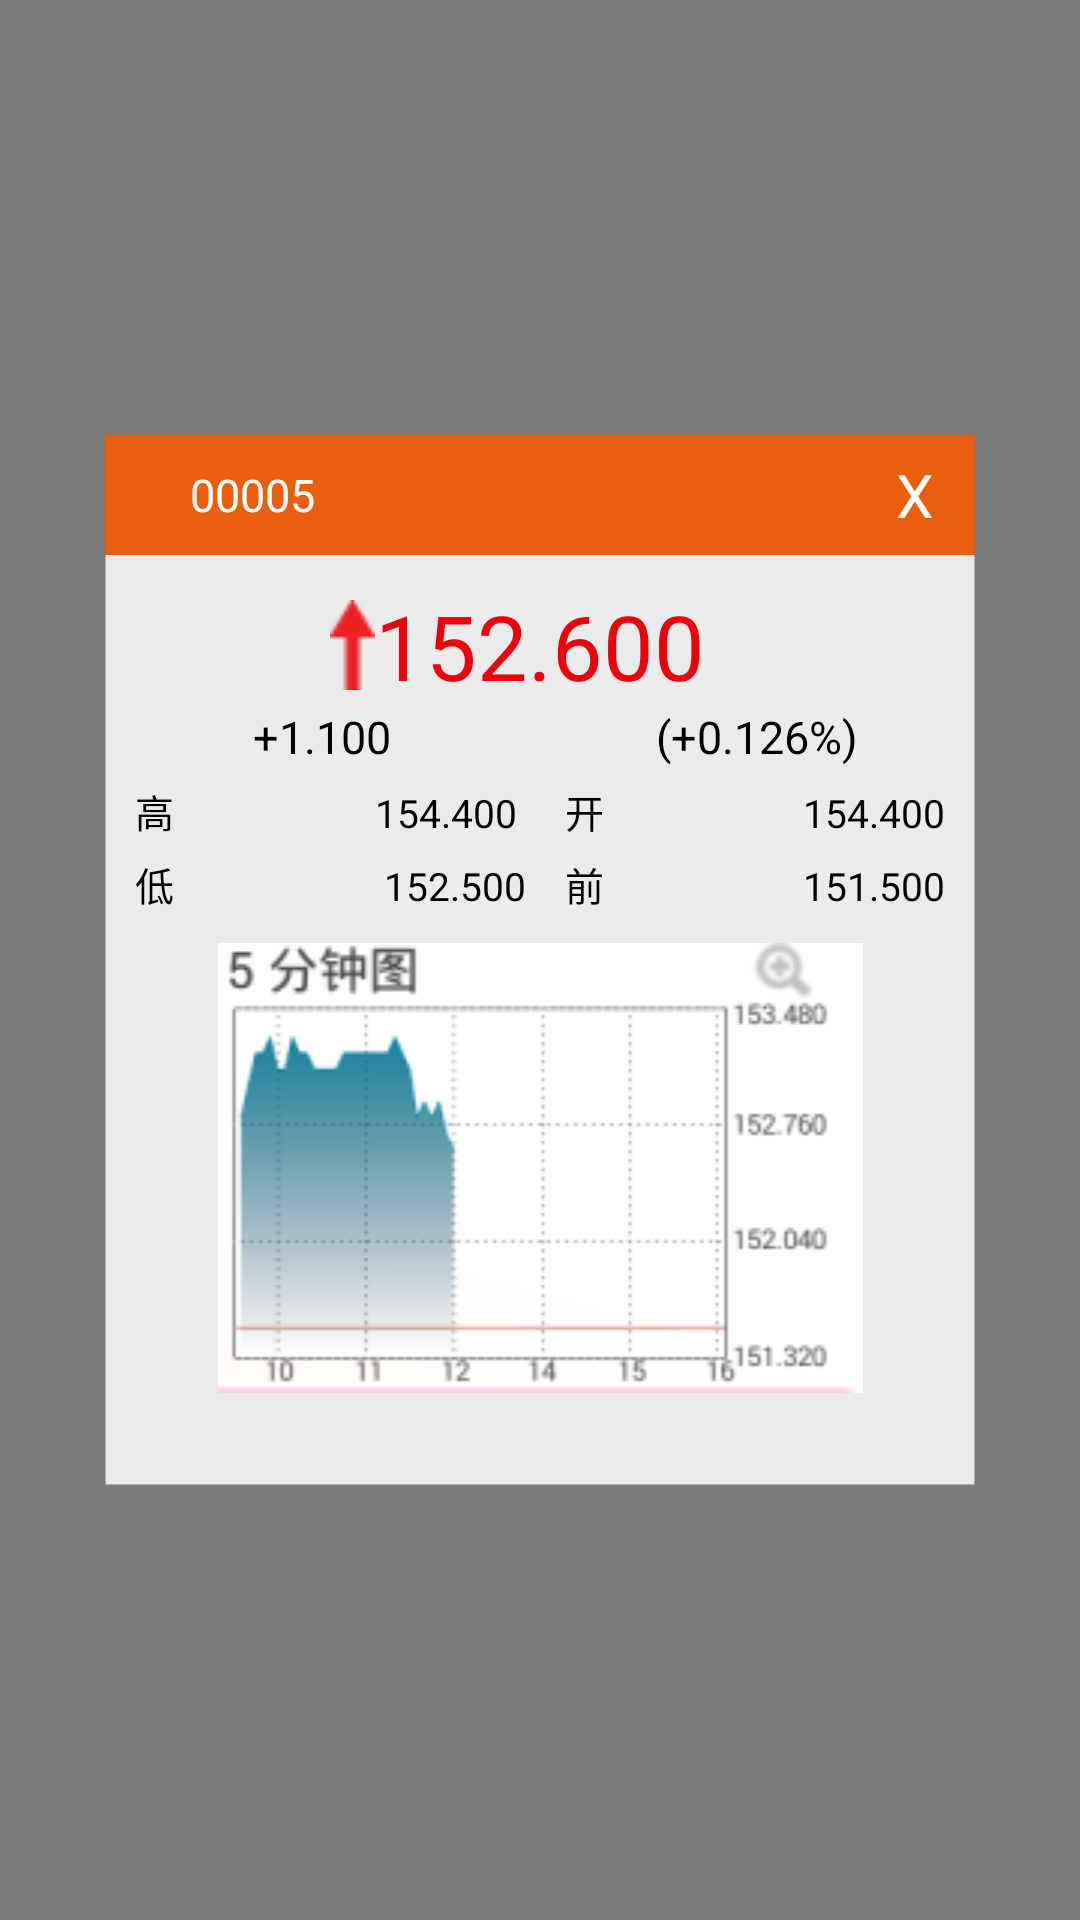

Where icons sit on this 1080px x 1920px app screen, as {"left": x1, "top": y1, "right": x2, "bottom": y2}:
arrow up: {"left": 330, "top": 600, "right": 375, "bottom": 690}
